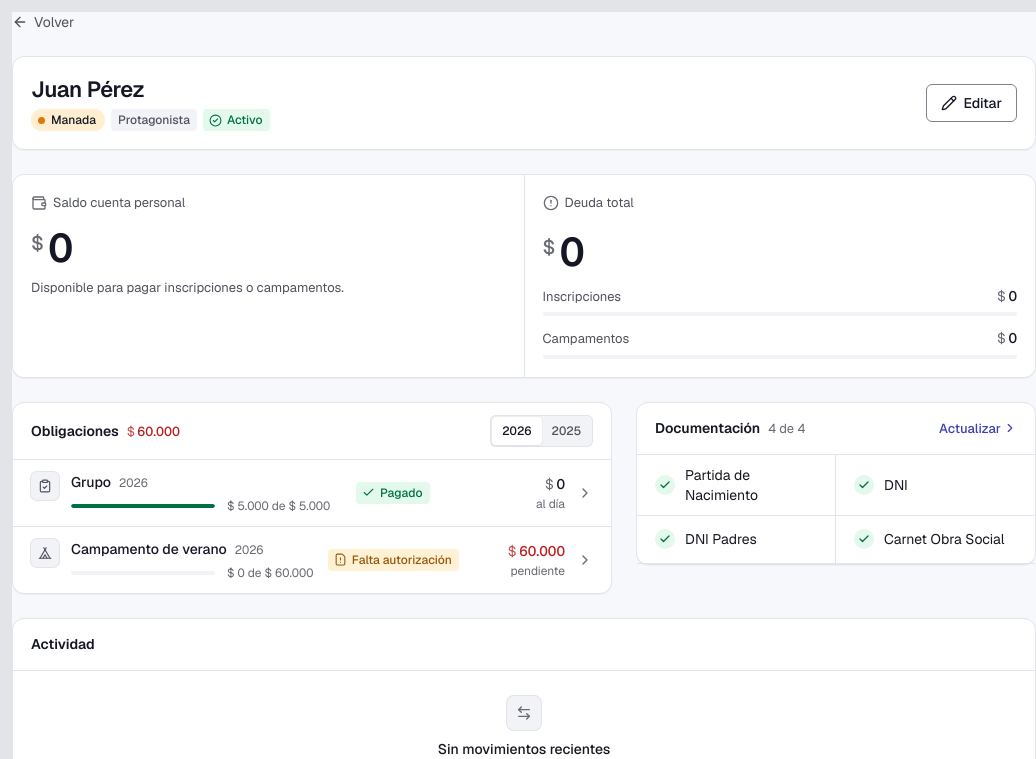
<PersonaFichaView> › inscripciones y campamentos conviven en Obligaciones; el año se elige solo si hay más de uno
Expected: the link "Scout Argentina" is not shown
Expected: the text "Falta autorización" is shown, 328,549 -> 459,571
Step 1. Click the button "2025" → click(566, 431), box 542,417 -> 591,445
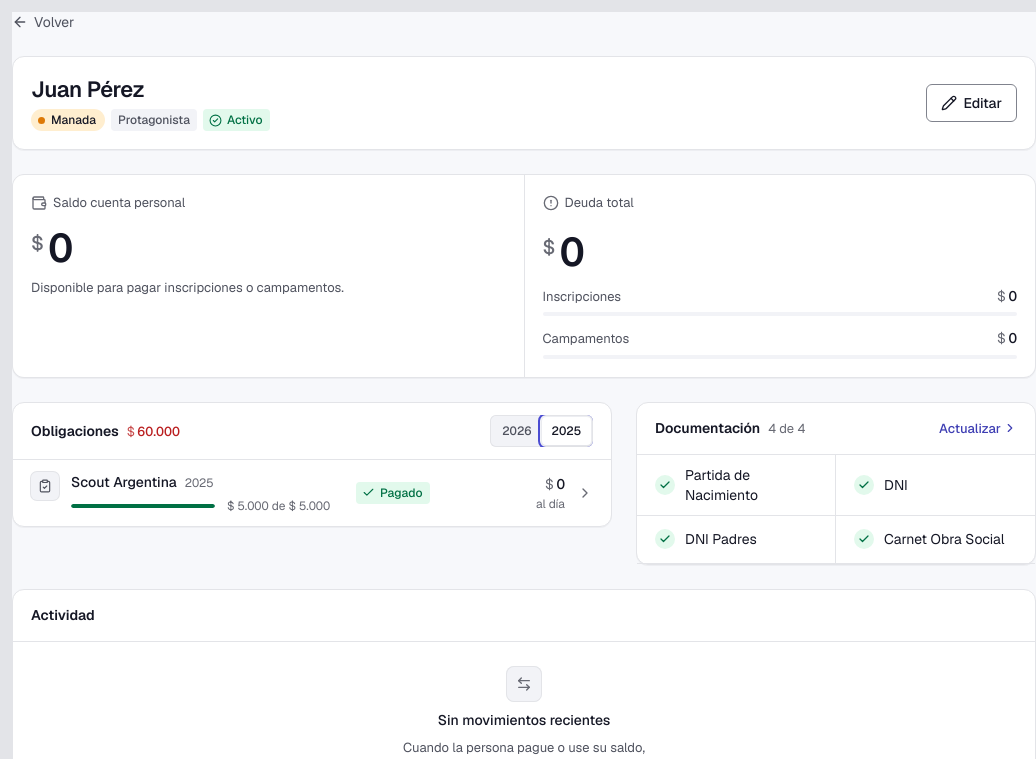
Result: the link "Campamento de verano" is gone
